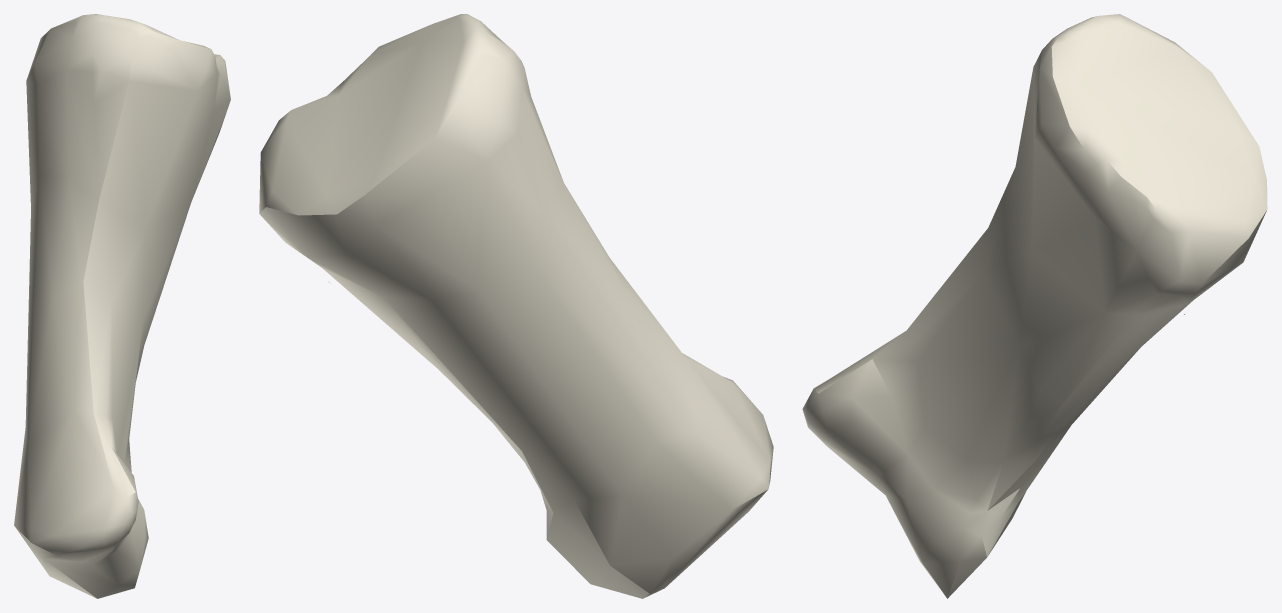
The model's file is fma24450_fj6423.glb.
The picture shows the model from 3 angles, left to right: view 1: azimuth 30°, elevation 25°; view 2: azimuth 150°, elevation 25°; view 3: azimuth 270°, elevation 25°; orthographic projection. The views are drawn at different scales.
Visible parts, largest first — view 1: FMA24450_FJ6423; view 2: FMA24450_FJ6423; view 3: FMA24450_FJ6423.
Boxes of the visible parts, x1,y1,x2,y2 form: FMA24450_FJ6423: [14, 14, 230, 598]; FMA24450_FJ6423: [259, 14, 773, 598]; FMA24450_FJ6423: [802, 14, 1267, 598].
Size of the model in its own units: 0.02 by 0.0317 by 0.0222.
